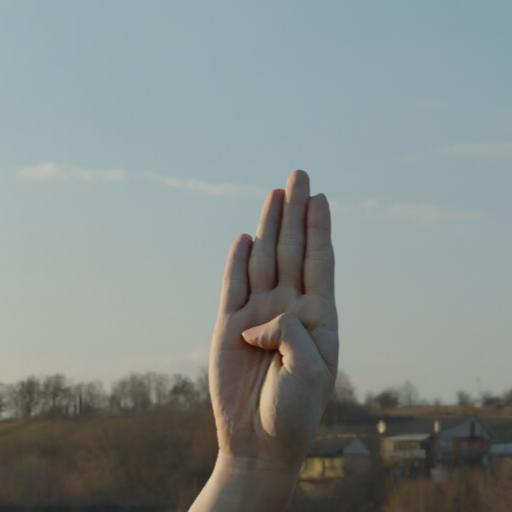B: (199, 163, 346, 466)
